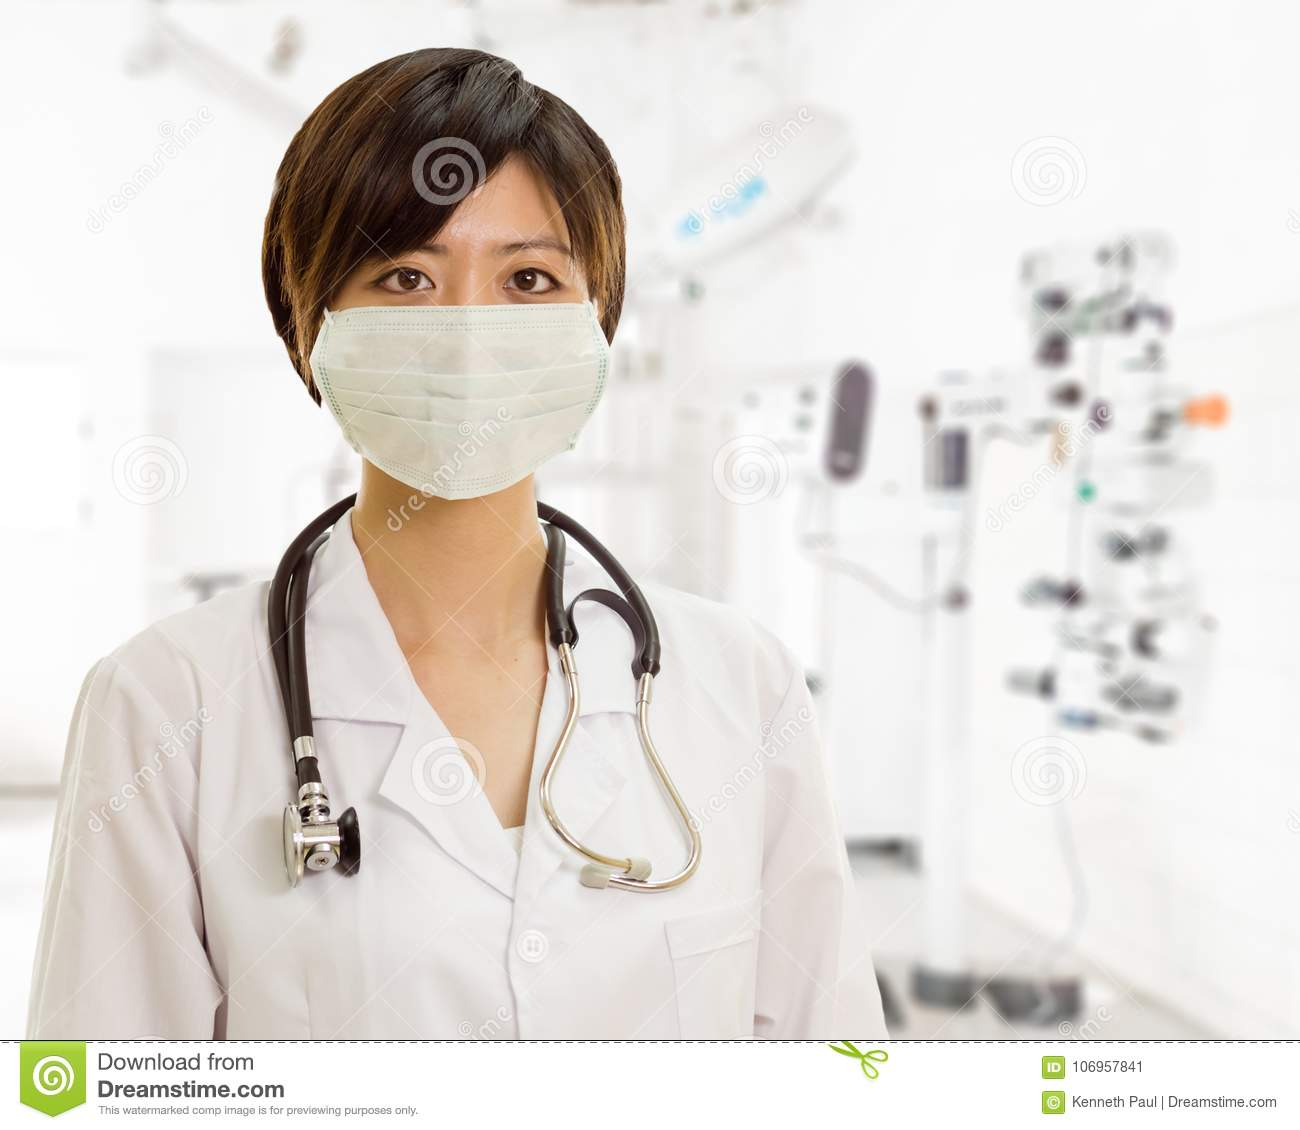mask: (324, 305, 600, 489)
